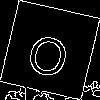O: (24, 25, 73, 79)
